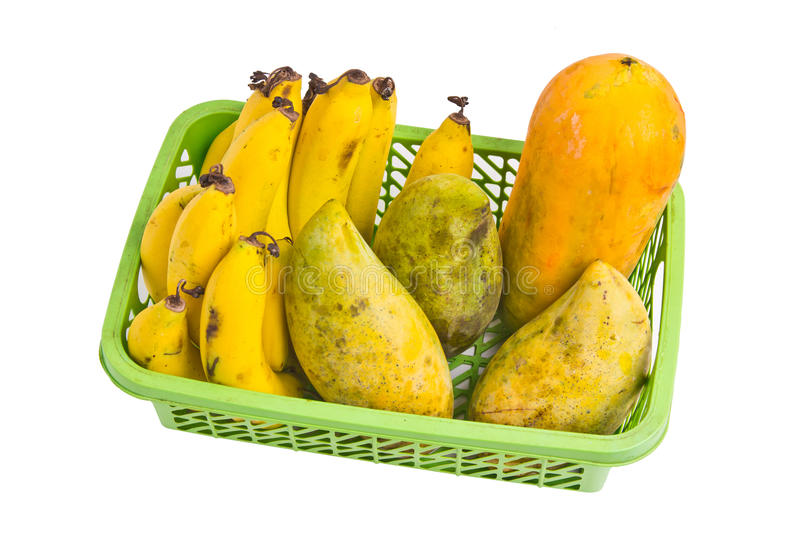mango: (289, 199, 443, 419), (475, 258, 644, 429), (386, 173, 498, 329)
